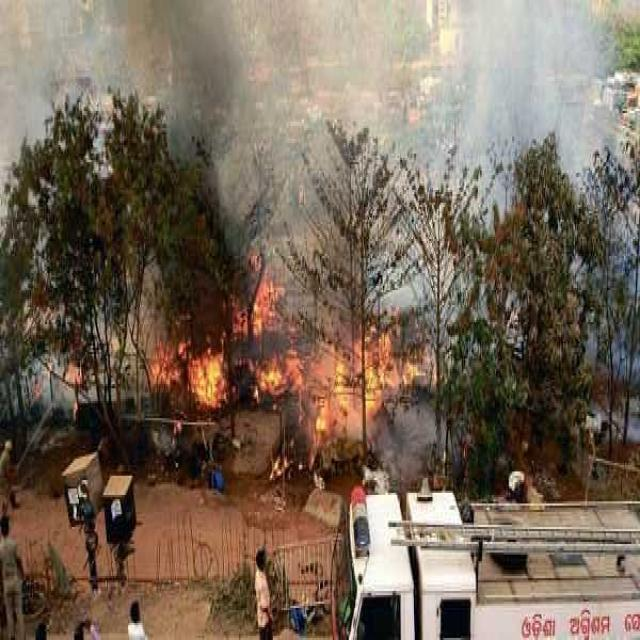Fire: (228, 270, 284, 342), (248, 341, 306, 408), (189, 345, 227, 416), (364, 350, 388, 422), (306, 403, 334, 445), (328, 360, 349, 412), (64, 348, 85, 389)
Smoke: (425, 0, 640, 222), (129, 0, 251, 189), (370, 396, 454, 488)
